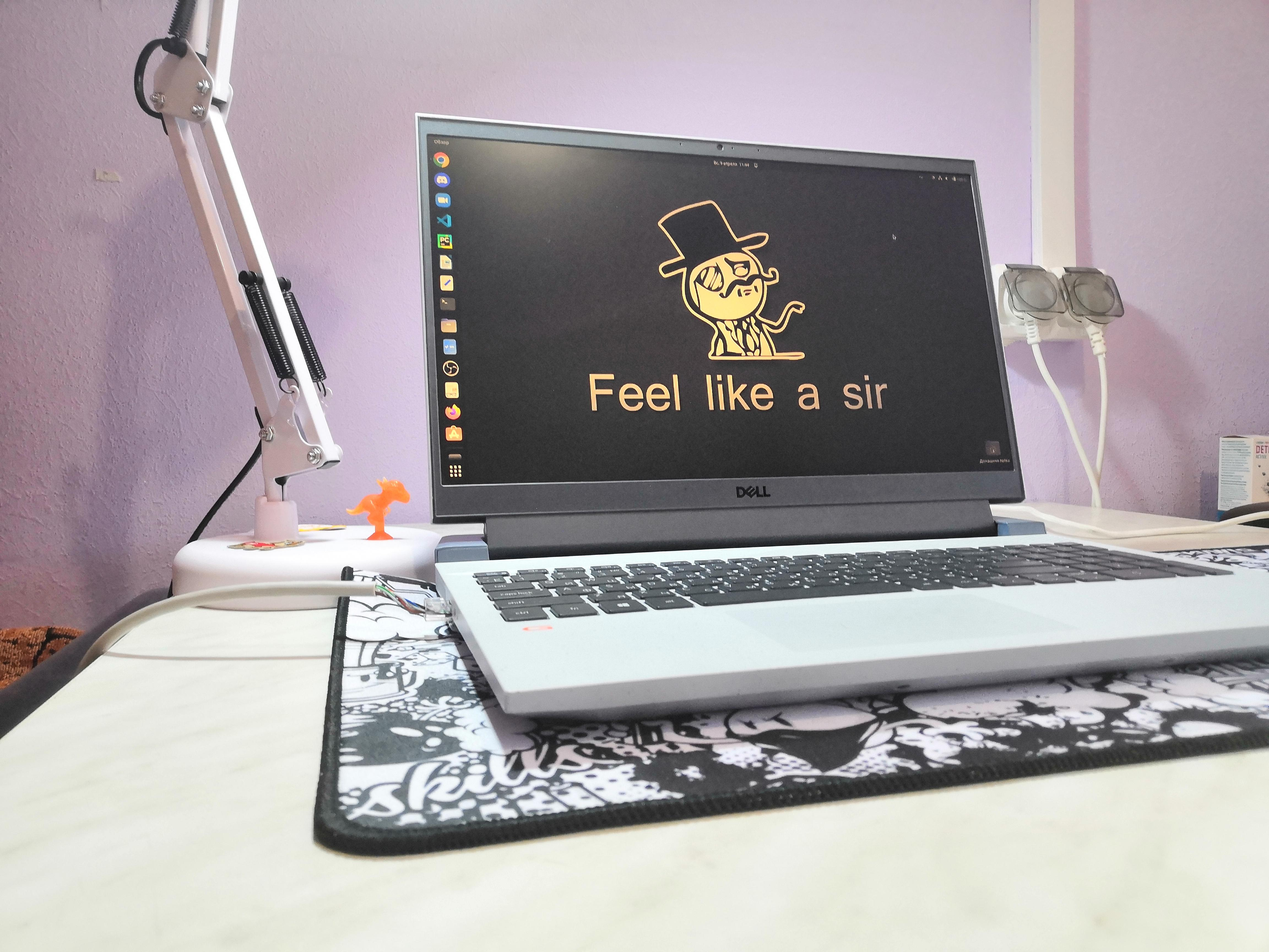monitor: (415, 113, 1031, 529)
